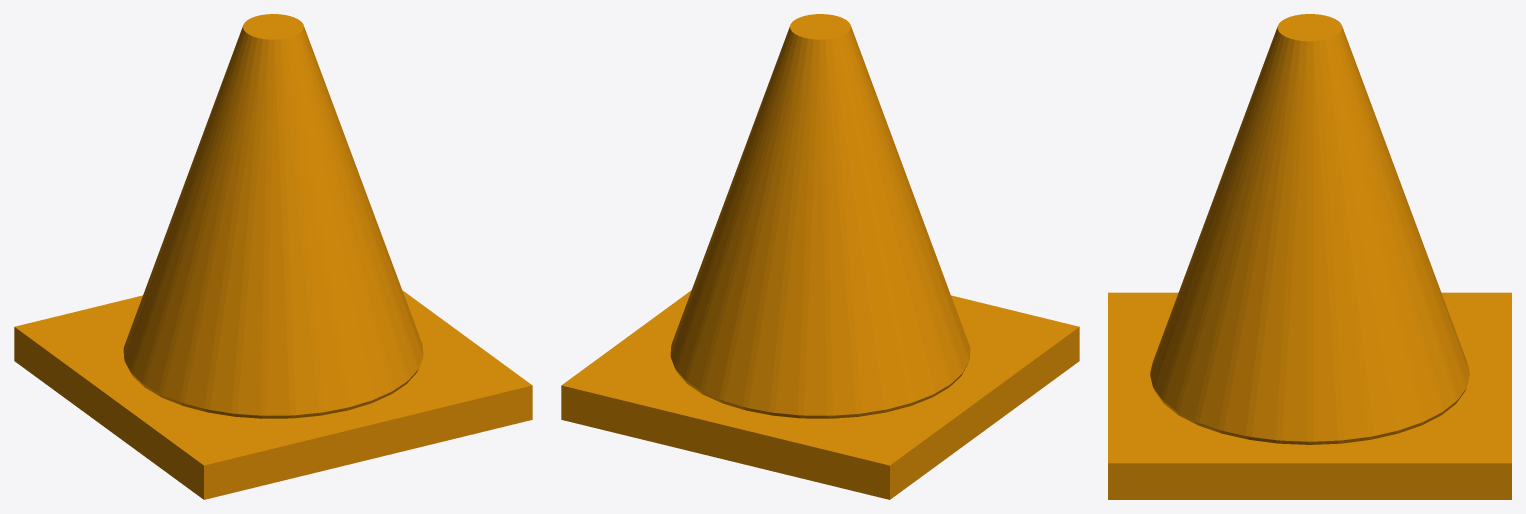
The picture shows the model from 3 angles, left to right: view 1: azimuth 30°, elevation 25°; view 2: azimuth 150°, elevation 25°; view 3: azimuth 270°, elevation 25°; orthographic projection. The views are drawn at different scales.
Parts seen in each view (by area): view 1: Cube; view 2: Cube; view 3: Cube.
Part boxes in pixels (left/top/right/bottom): Cube: left=14, top=14, right=532, bottom=499; Cube: left=561, top=14, right=1079, bottom=499; Cube: left=1108, top=14, right=1511, bottom=499.
Bounding box in the file's own units: 2.5 × 2.64 × 2.5.
